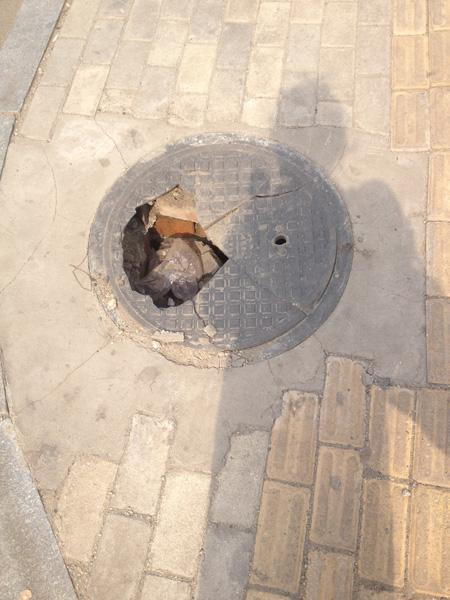broke: (72, 120, 366, 383)
